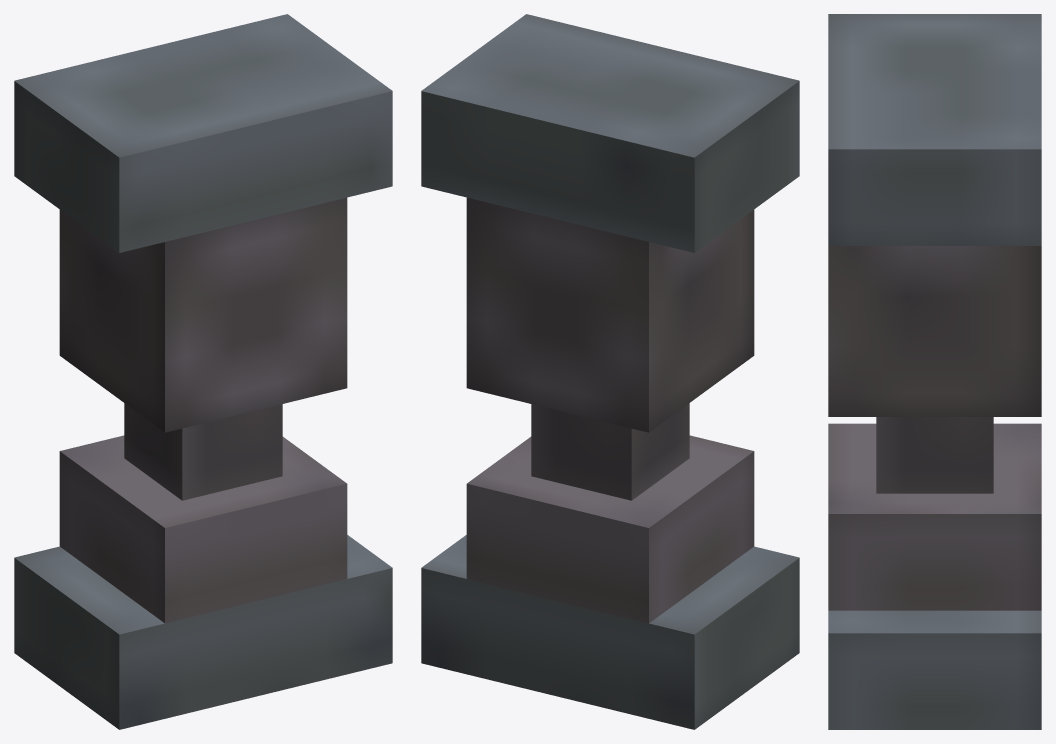
The model's file is railing_type_03_purple.fbx.
3 views of the same model, side by side, from view 1: azimuth 30°, elevation 25°; view 2: azimuth 150°, elevation 25°; view 3: azimuth 270°, elevation 25° (orthographic).
Parts seen in each view (by area): view 1: railing_type_03_purple; view 2: railing_type_03_purple; view 3: railing_type_03_purple.
Part boxes in pixels (x1=…): railing_type_03_purple: x1=14, y1=14, x2=392, y2=729; railing_type_03_purple: x1=421, y1=14, x2=799, y2=729; railing_type_03_purple: x1=828, y1=14, x2=1041, y2=729.
Size of the model in its own units: 6 by 12 by 4.
